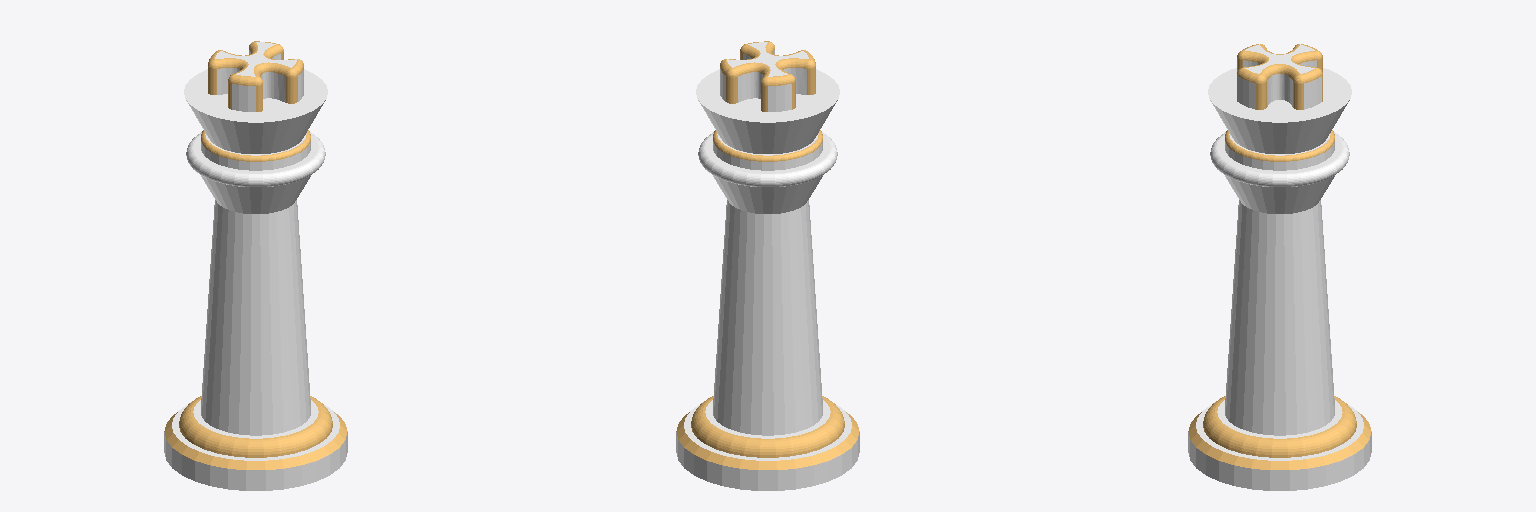
Rendered from quit.obj.
The picture shows the model from 3 angles: view 1: azimuth 30°, elevation 25°; view 2: azimuth 150°, elevation 25°; view 3: azimuth 270°, elevation 25°; orthographic projection.
Visible parts, largest first — view 1: King_Black; view 2: King_Black; view 3: King_Black.
Part boxes in pixels (bbox=[...]): King_Black: bbox=[164, 41, 347, 490]; King_Black: bbox=[676, 41, 859, 490]; King_Black: bbox=[1188, 44, 1371, 490].
Bounding box in the file's own units: 0.0288 × 0.0686 × 0.029.